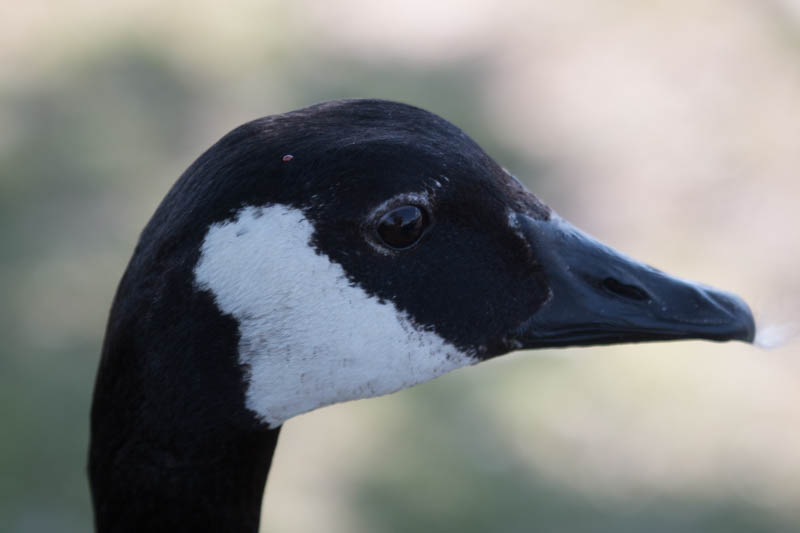goose-head: (89, 99, 757, 427)
